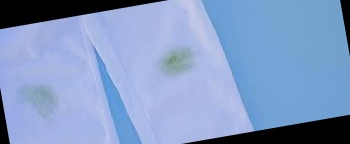earth: (26, 86, 62, 115), (158, 50, 190, 77)
